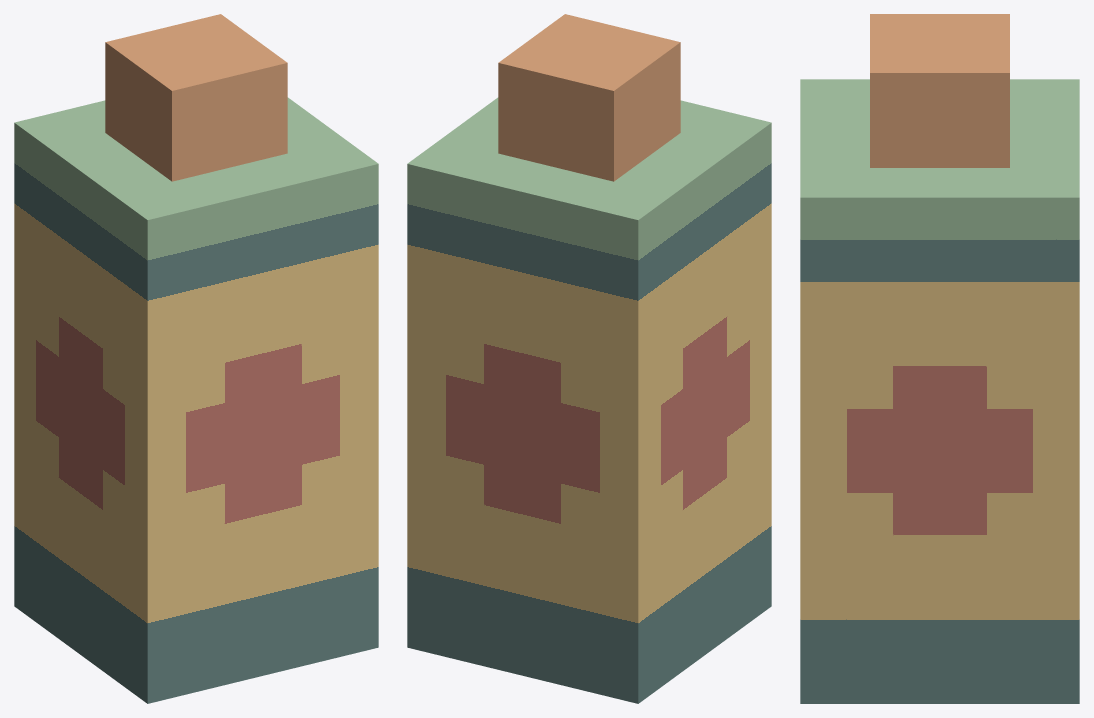
The model's file is a_medical_flask.glb.
3 renders of one model, left to right at view 1: azimuth 30°, elevation 25°; view 2: azimuth 150°, elevation 25°; view 3: azimuth 270°, elevation 25°, orthographic. The views are drawn at different scales.
Parts seen in each view (by area): view 1: 59d373dc-d236-ab01-630e-6fee92846bb1_1, 79ddf838-d857-533e-c43f-57fceeba1714_0; view 2: 59d373dc-d236-ab01-630e-6fee92846bb1_1, 79ddf838-d857-533e-c43f-57fceeba1714_0; view 3: 59d373dc-d236-ab01-630e-6fee92846bb1_1, 79ddf838-d857-533e-c43f-57fceeba1714_0.
Part boxes in pixels (x1,y1,x2,y2): 59d373dc-d236-ab01-630e-6fee92846bb1_1: [14, 97, 378, 703]; 79ddf838-d857-533e-c43f-57fceeba1714_0: [105, 14, 287, 181]; 59d373dc-d236-ab01-630e-6fee92846bb1_1: [407, 97, 771, 703]; 79ddf838-d857-533e-c43f-57fceeba1714_0: [498, 14, 680, 181]; 59d373dc-d236-ab01-630e-6fee92846bb1_1: [800, 79, 1079, 703]; 79ddf838-d857-533e-c43f-57fceeba1714_0: [870, 14, 1009, 167].
Size of the model in its own units: 0.125 by 0.2969 by 0.125.
1 material, 1 textured.
